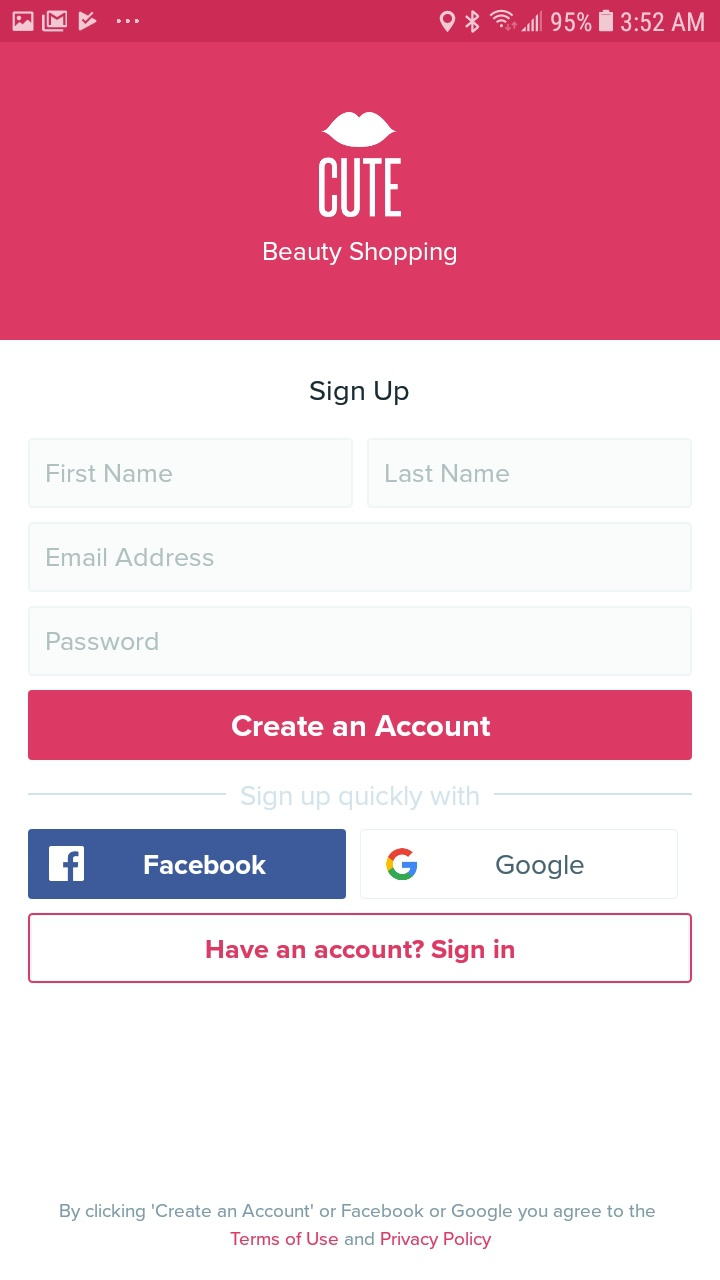EditText: (28, 606, 692, 677), (28, 522, 692, 593), (29, 438, 354, 509), (367, 438, 692, 509)
Image: (320, 111, 398, 149)
Text: (60, 1203, 656, 1250), (241, 785, 480, 811), (318, 157, 402, 219), (264, 242, 457, 267), (48, 548, 215, 567), (310, 380, 410, 406), (47, 464, 173, 484), (387, 464, 510, 483), (48, 632, 159, 651)
TextButton: (29, 912, 693, 984), (28, 690, 692, 761), (28, 829, 347, 900), (360, 829, 678, 900)
UpperTaskBar: (1, 1, 720, 43)
